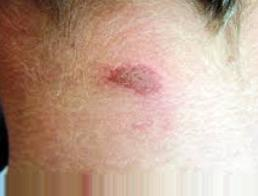Spider: (104, 48, 187, 118)
